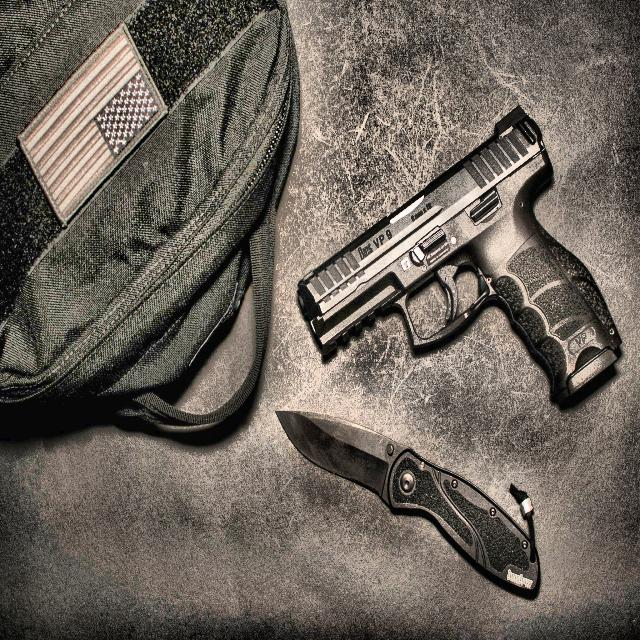HKVP9: (294, 103, 625, 410)
